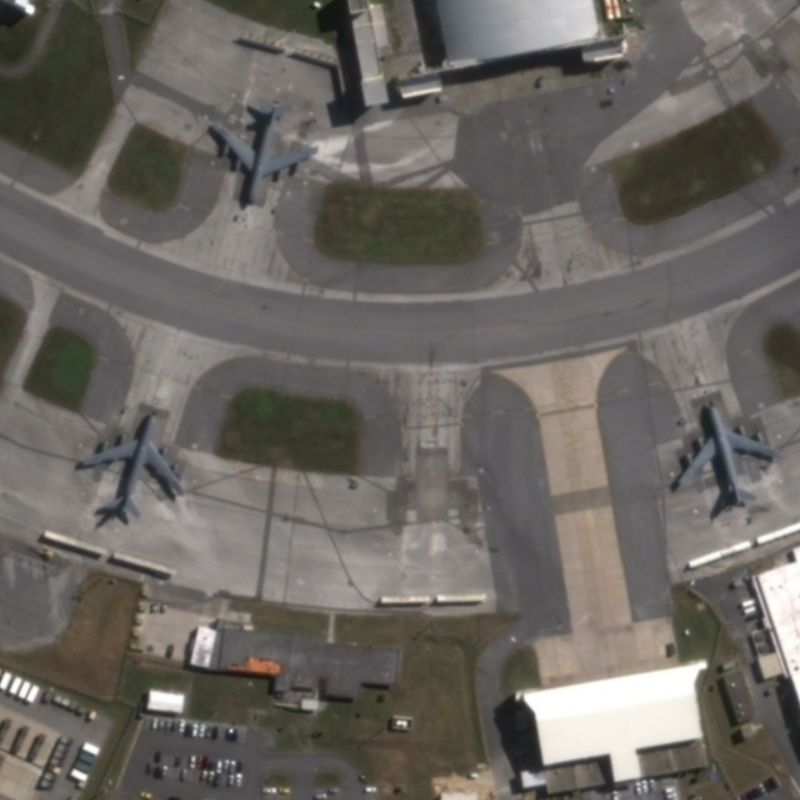A14: (664, 391, 786, 521), (68, 402, 192, 527), (203, 94, 326, 216)
